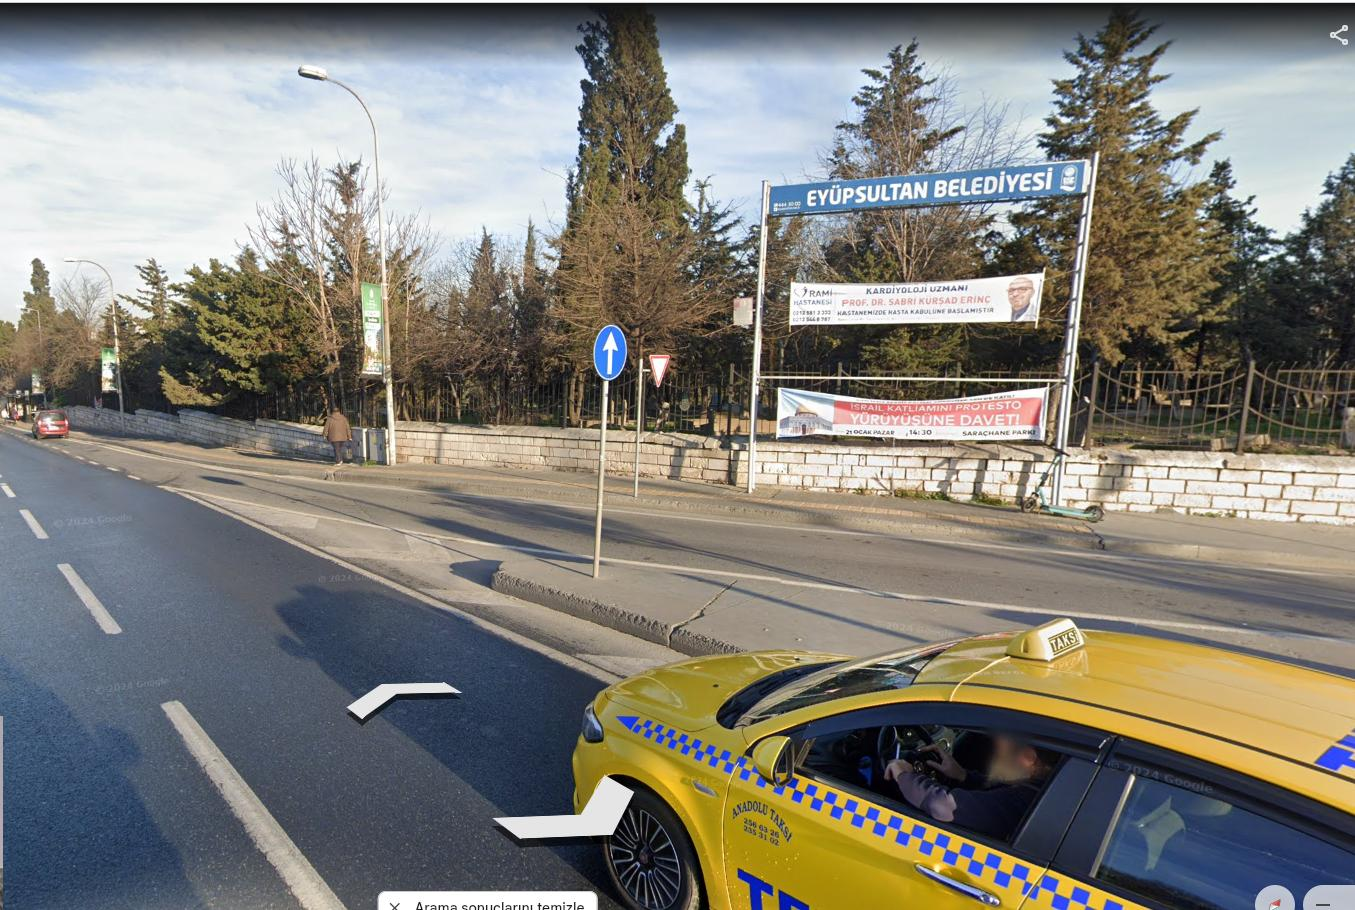forward: (595, 325, 626, 380)
